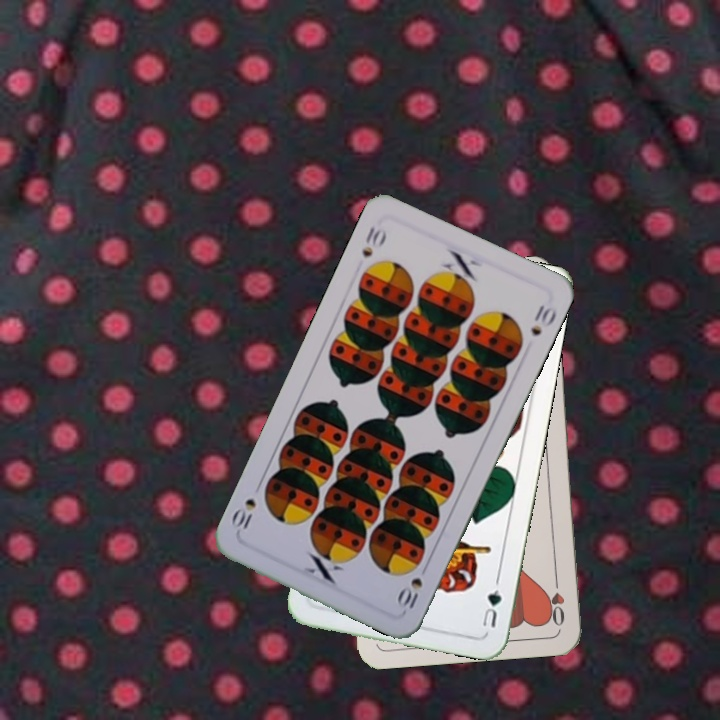GU: (479, 585, 504, 630)
HO: (545, 570, 568, 629)
S10: (393, 573, 425, 614), (358, 222, 389, 260)
